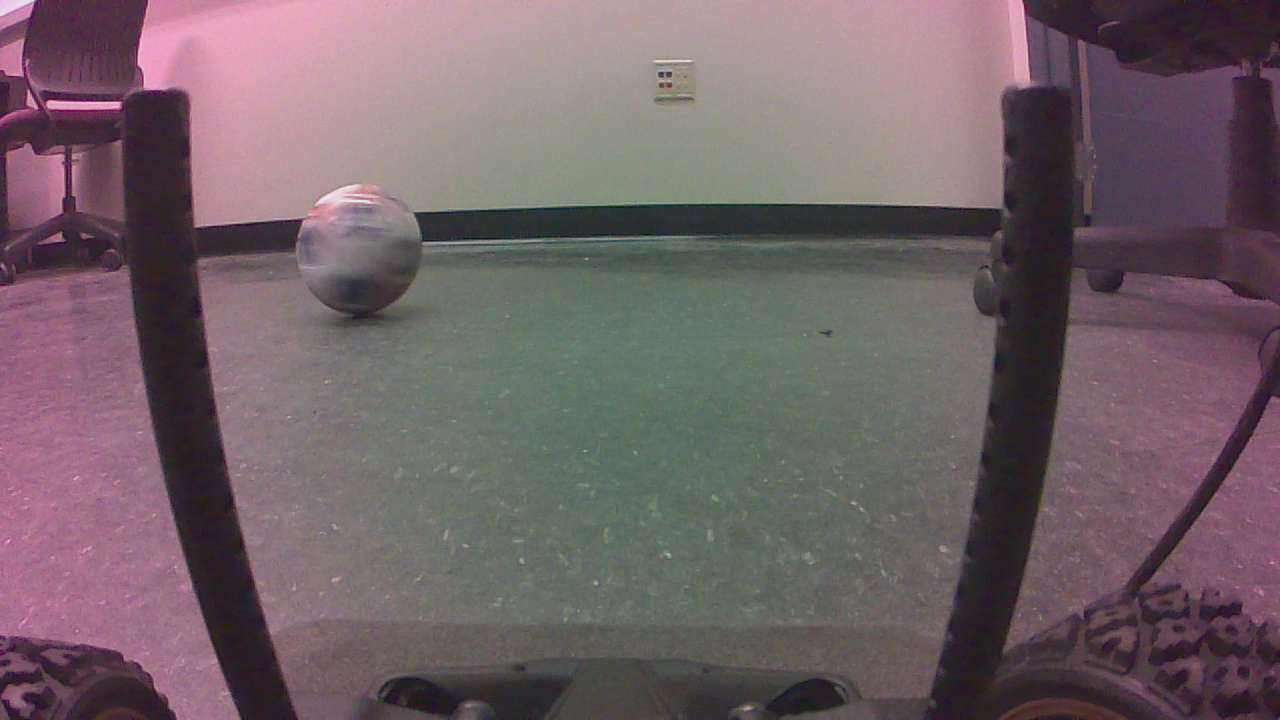ball: (301, 188, 429, 324)
